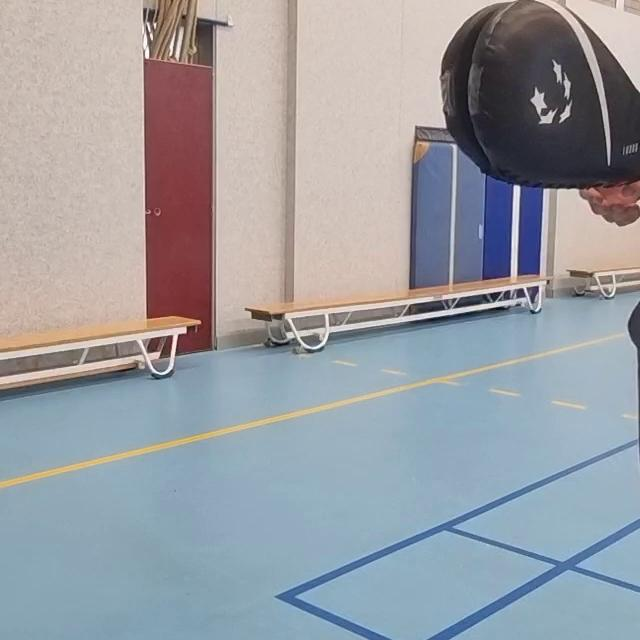paddle: (437, 0, 640, 183)
